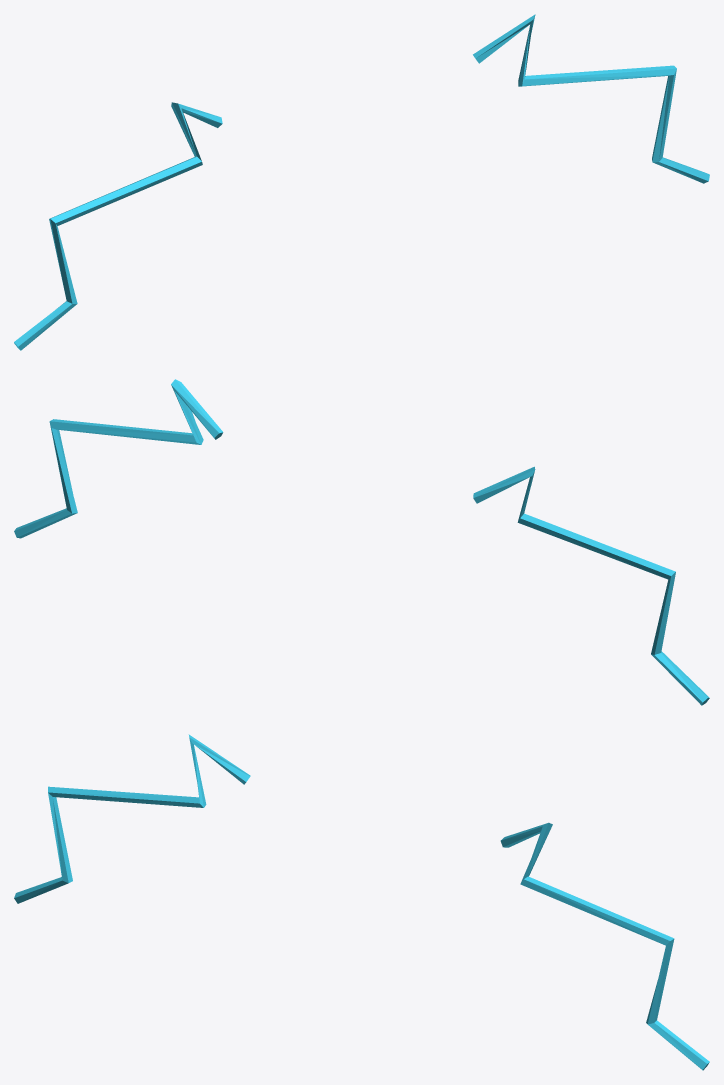
The model's file is Mjolnir_Lightning.fbx.
3 views of the same model, one above another, from view 1: azimuth 30°, elevation 25°; view 2: azimuth 150°, elevation 25°; view 3: azimuth 330°, elevation 25° (orthographic).
Visible parts, largest first — view 1: Handle, Mjolnir_Lightning__Body__lightning; view 2: Mjolnir_Lightning__Body__lightning, Handle; view 3: Mjolnir_Lightning__Body__lightning, Handle.
Part boxes in pixels (x1,y1,x2,y2): Handle: (14, 102, 222, 350); Mjolnir_Lightning__Body__lightning: (473, 14, 709, 183); Mjolnir_Lightning__Body__lightning: (14, 379, 223, 538); Handle: (473, 466, 709, 705); Mjolnir_Lightning__Body__lightning: (500, 822, 709, 1070); Handle: (14, 734, 250, 903).
Size of the model in its own units: 2.8 by 0.7865 by 0.1608.
1 material, 1 textured.
